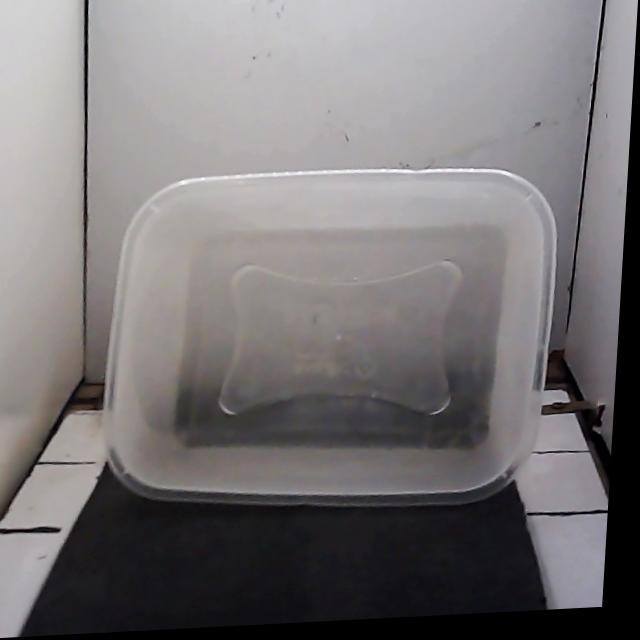plastico: (104, 169, 555, 504)
